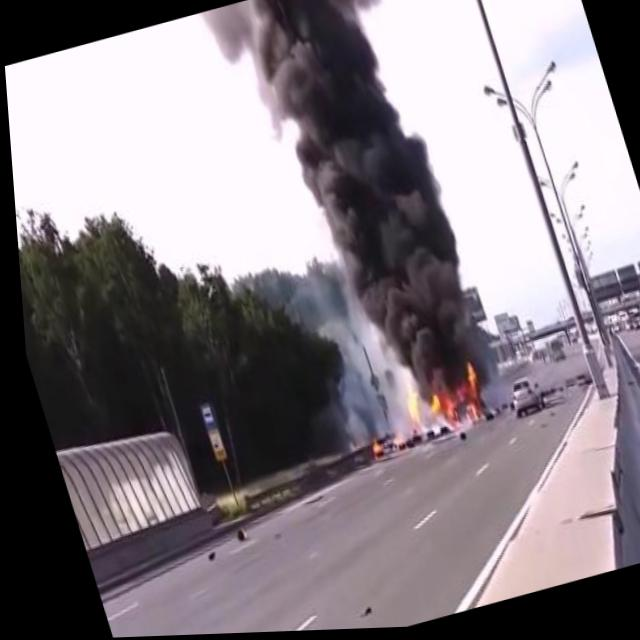fire: (386, 358, 488, 451), (356, 425, 406, 470)
